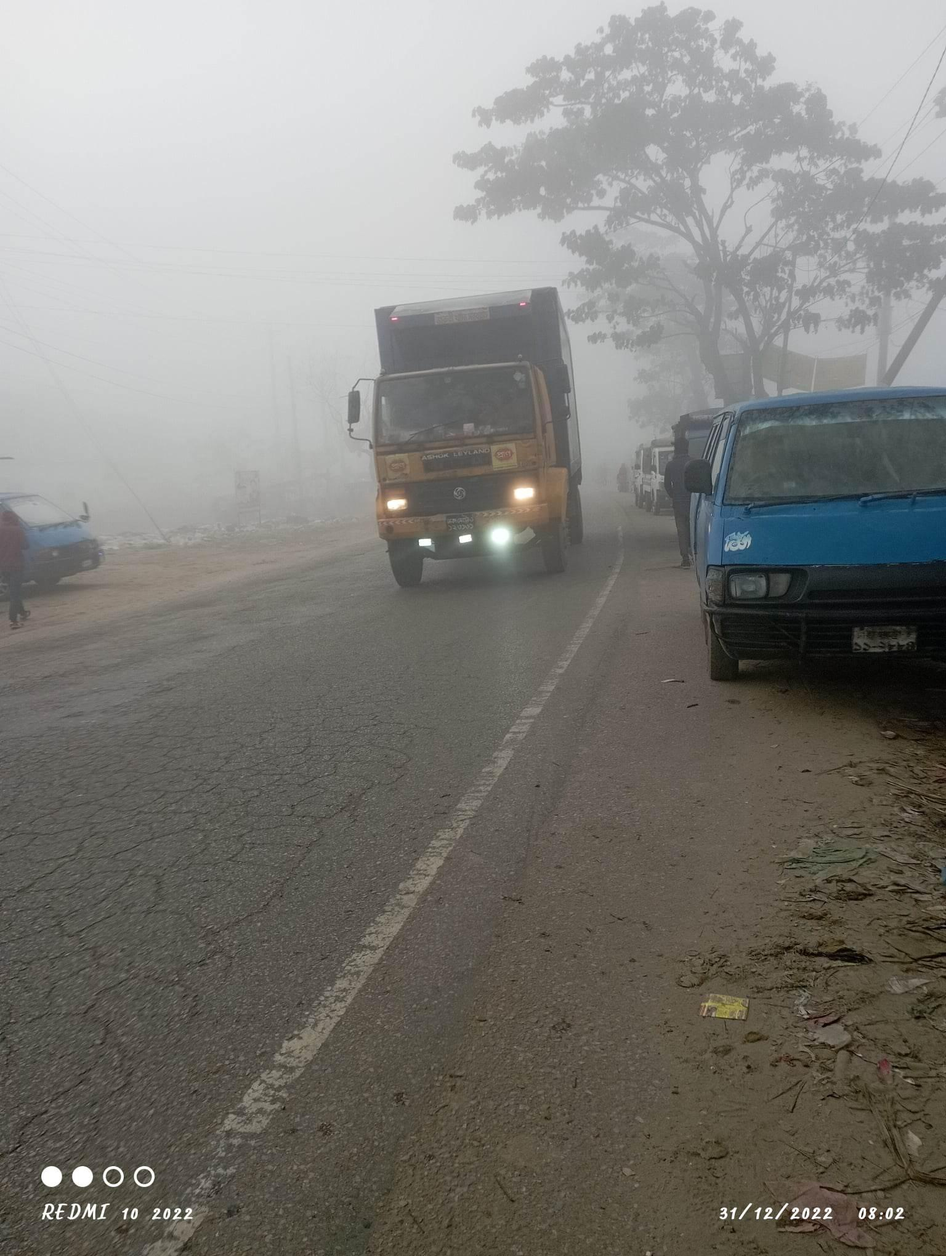Car: (690, 377, 946, 712), (1, 469, 108, 603)
Truck: (339, 274, 596, 589)
